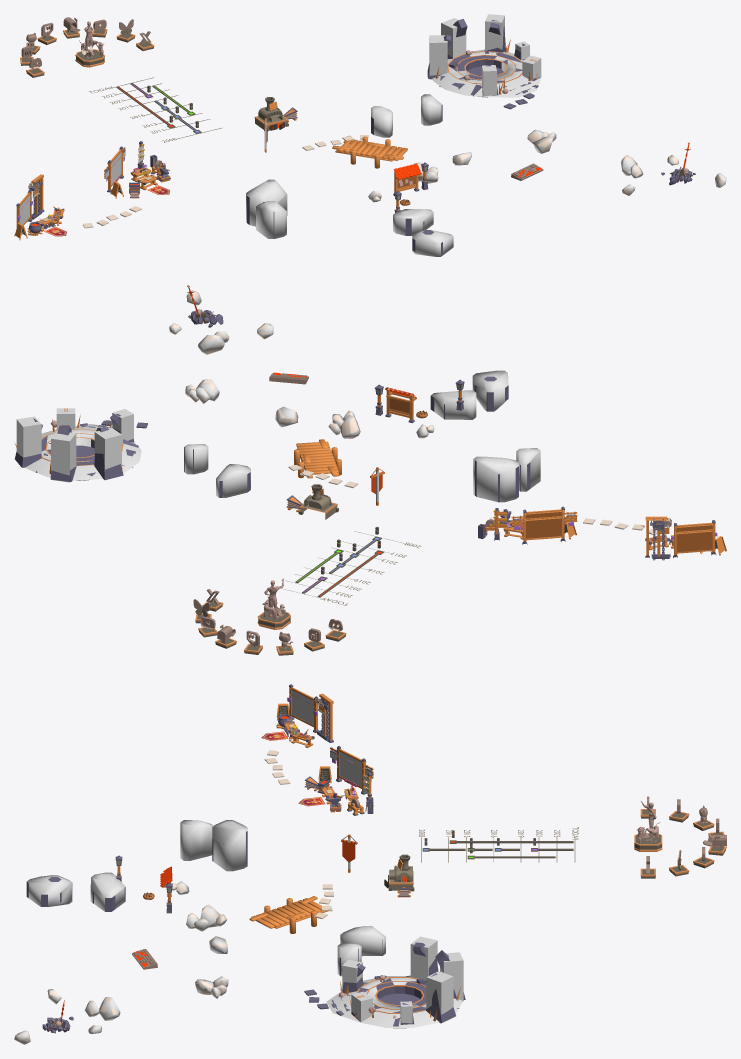
Rendered from sceneryStatic.glb.
3 views of the same model, one above another, from view 1: azimuth 30°, elevation 25°; view 2: azimuth 150°, elevation 25°; view 3: azimuth 270°, elevation 25° (orthographic). The views are drawn at different scales.
Visible parts, largest first — view 1: trimesh.001, Cube.139, hull.016, Cylinder.021, hull.015, Cube.159, hull.011, hull.012, Cube.165, Cube.172, Cube.164, hull.014 (+6 smaller); view 2: hull.015, trimesh.001, Cube.139, Cube.172, Cube.159, hull.012, hull.011, Cube.164, Cylinder.022, Cube.146, hull.014, Cube.165 (+4 smaller); view 3: trimesh.001, hull.015, Cube.139, hull.016, Cube.172, Cylinder.021, Cube.159, hull.011, hull.014, hull.012, Cube.146, Cube.165 (+2 smaller).
Part boxes in pixels (bbox=[...]): trimesh.001: bbox=[432, 50, 541, 97]; Cube.139: bbox=[332, 136, 407, 168]; hull.016: bbox=[256, 201, 286, 238]; Cylinder.021: bbox=[448, 52, 538, 94]; hull.015: bbox=[246, 179, 287, 226]; Cube.159: bbox=[20, 29, 153, 77]; hull.011: bbox=[412, 230, 453, 256]; hull.012: bbox=[393, 209, 433, 235]; Cube.165: bbox=[429, 35, 447, 79]; Cube.172: bbox=[427, 19, 525, 96]; Cube.164: bbox=[441, 18, 466, 58]; hull.014: bbox=[371, 106, 392, 137]; hull.015: bbox=[473, 456, 518, 502]; trimesh.001: bbox=[26, 424, 141, 480]; Cube.139: bbox=[294, 439, 341, 478]; Cube.172: bbox=[15, 414, 134, 481]; Cube.159: bbox=[195, 600, 346, 655]; hull.012: bbox=[431, 390, 476, 419]; hull.011: bbox=[472, 370, 508, 411]; Cube.164: bbox=[51, 430, 76, 482]; Cylinder.022: bbox=[184, 376, 530, 502]; Cube.146: bbox=[16, 416, 41, 467]; hull.014: bbox=[216, 464, 250, 497]; Cube.165: bbox=[94, 427, 121, 480]; trimesh.001: bbox=[326, 976, 462, 1028]; hull.015: bbox=[212, 820, 247, 871]; Cube.139: bbox=[249, 896, 329, 933]; hull.016: bbox=[180, 820, 213, 860]; Cube.172: bbox=[342, 942, 465, 1024]; Cylinder.021: bbox=[331, 978, 426, 1015]; Cube.159: bbox=[640, 809, 726, 878]; hull.011: bbox=[27, 875, 71, 906]; hull.014: bbox=[340, 926, 385, 956]; hull.012: bbox=[90, 872, 125, 911]; Cube.146: bbox=[426, 971, 453, 1023]; Cube.165: bbox=[410, 936, 437, 980].
Size of the model in its own units: 84.82 by 8.2 by 78.99.
Materials: 29 (4 with a texture image).
